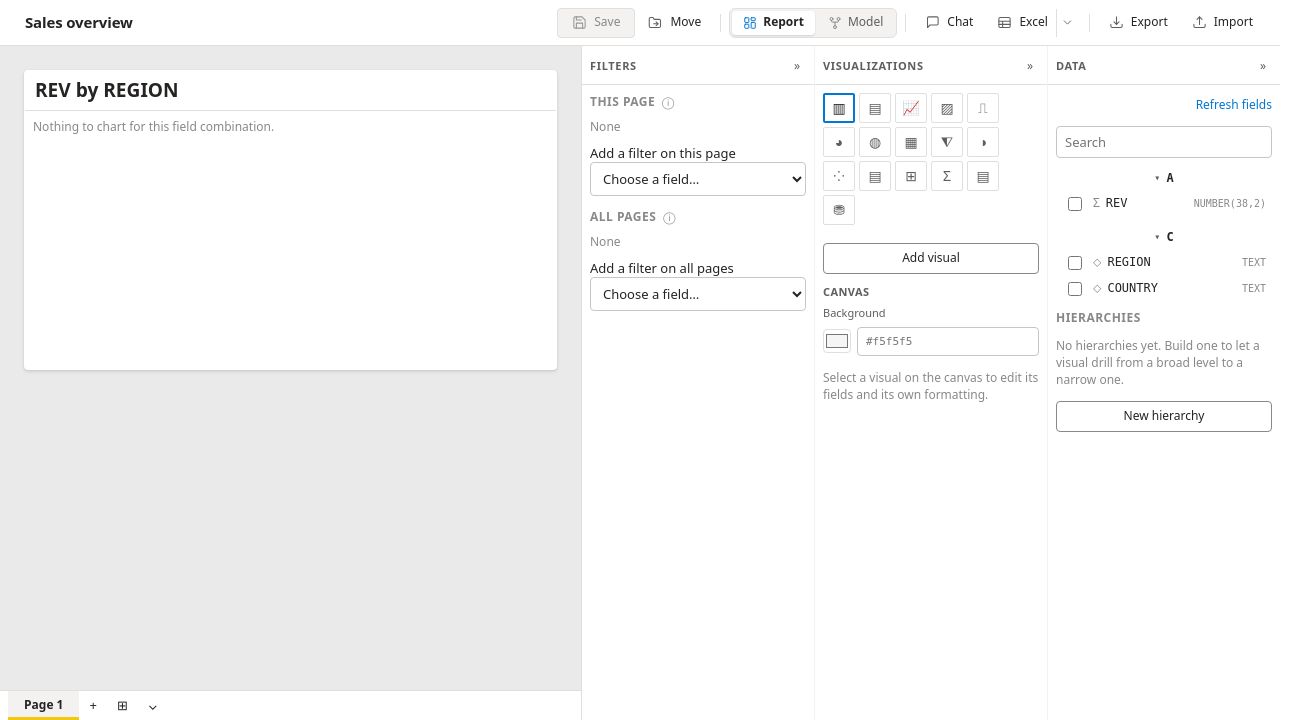
Test case: BuilderPage filters › does not offer a hierarchy until one is defined, then lists it
Expected: the field showing "Sales overview" is shown, [16,7,261,38]
Expected: the text "No hierarchies yet" is shown, [1056,337,1260,388]
Click the button "New hierarchy". click: click(1164, 416)
box: [1056,401,1272,432]
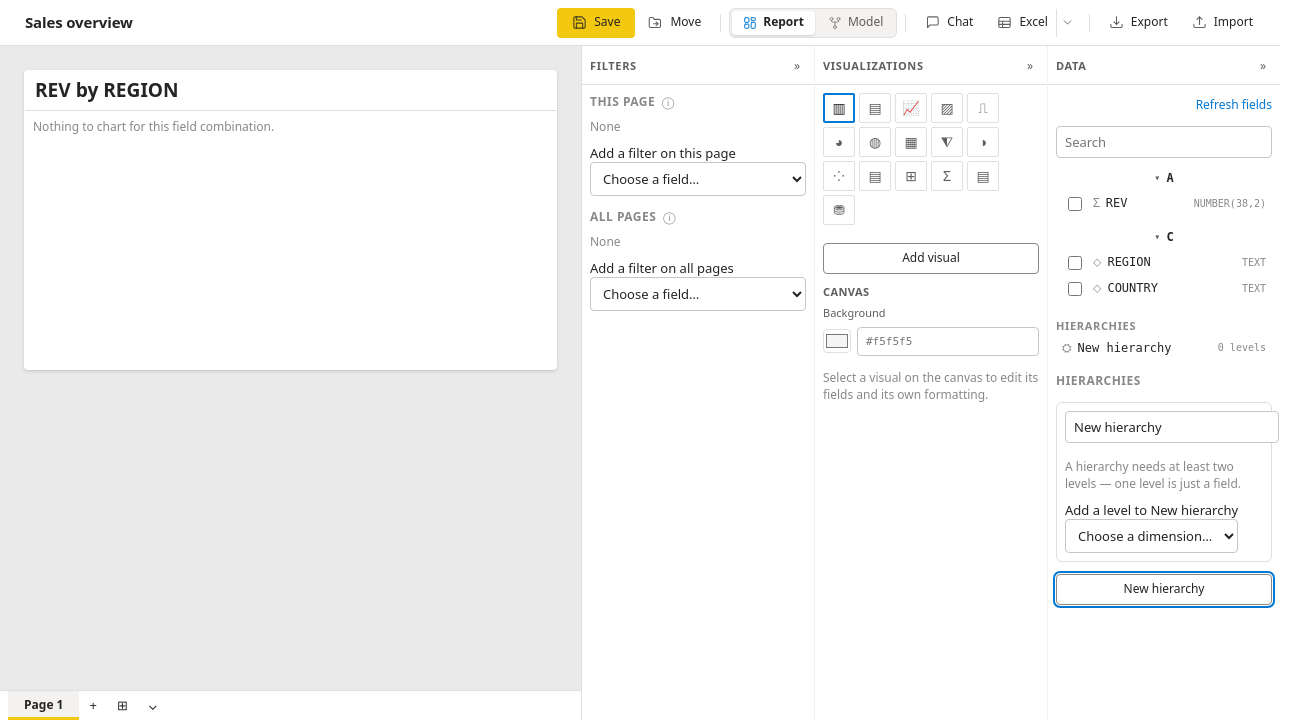
Expected: the field named "hierarchy name for New hierarchy" is shown, [1065,411,1279,443]
